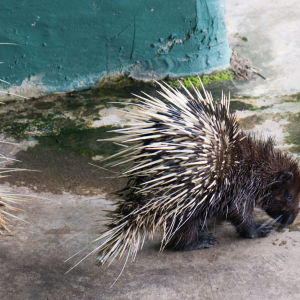porcupine: (81, 84, 300, 269)
